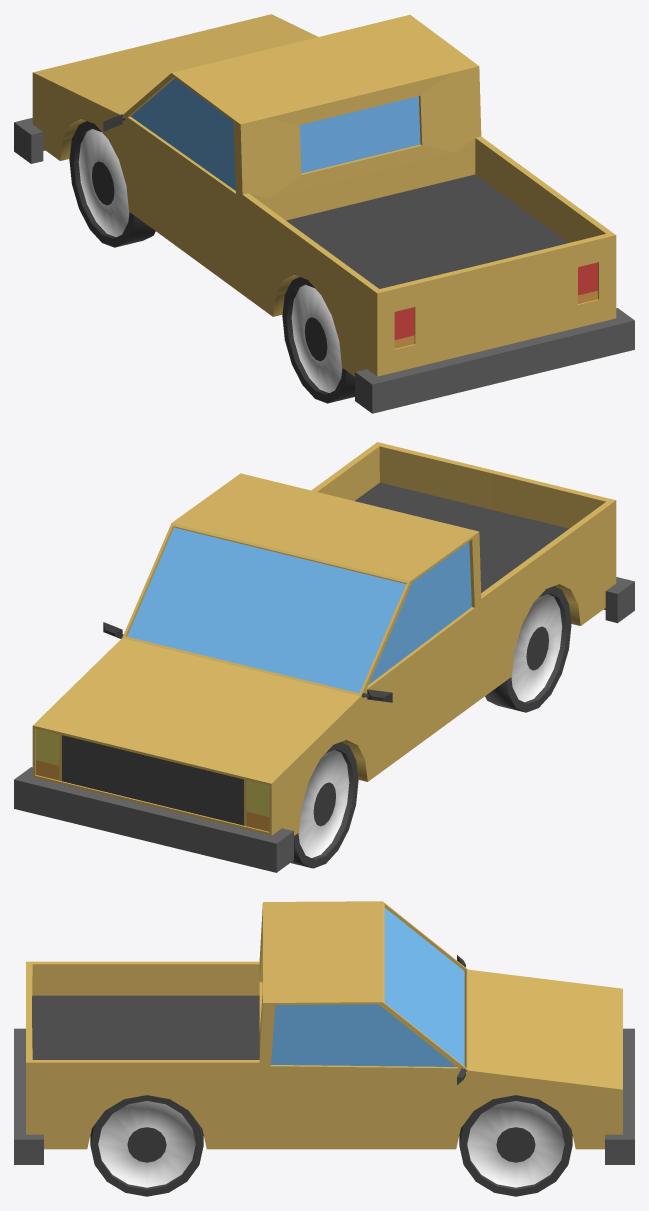
The model's file is Pick-up Model.fbx.
3 renders of one model, top to bottom at view 1: azimuth 30°, elevation 25°; view 2: azimuth 150°, elevation 25°; view 3: azimuth 270°, elevation 25°, orthographic. The views are drawn at different scales.
Visible parts, largest first — view 1: Pick-up - Body, Pick-up Wheel - Front Left, Pick-up Wheel - Back Left; view 2: Pick-up - Body, Pick-up Wheel - Back Left, Pick-up Wheel - Front Left; view 3: Pick-up - Body, Pick-up Wheel - Front Right, Pick-up Wheel - Back Right.
Part boxes in pixels (bbox=[...]): Pick-up - Body: bbox=[14, 14, 634, 413]; Pick-up Wheel - Front Left: bbox=[69, 121, 155, 247]; Pick-up Wheel - Back Left: bbox=[282, 277, 354, 403]; Pick-up - Body: bbox=[14, 442, 634, 872]; Pick-up Wheel - Back Left: bbox=[485, 586, 571, 712]; Pick-up Wheel - Front Left: bbox=[290, 742, 358, 868]; Pick-up - Body: bbox=[14, 901, 634, 1164]; Pick-up Wheel - Front Right: bbox=[459, 1095, 572, 1196]; Pick-up Wheel - Back Right: bbox=[90, 1095, 203, 1196].
Bounding box in the file's own units: 485 × 365 × 1040.
